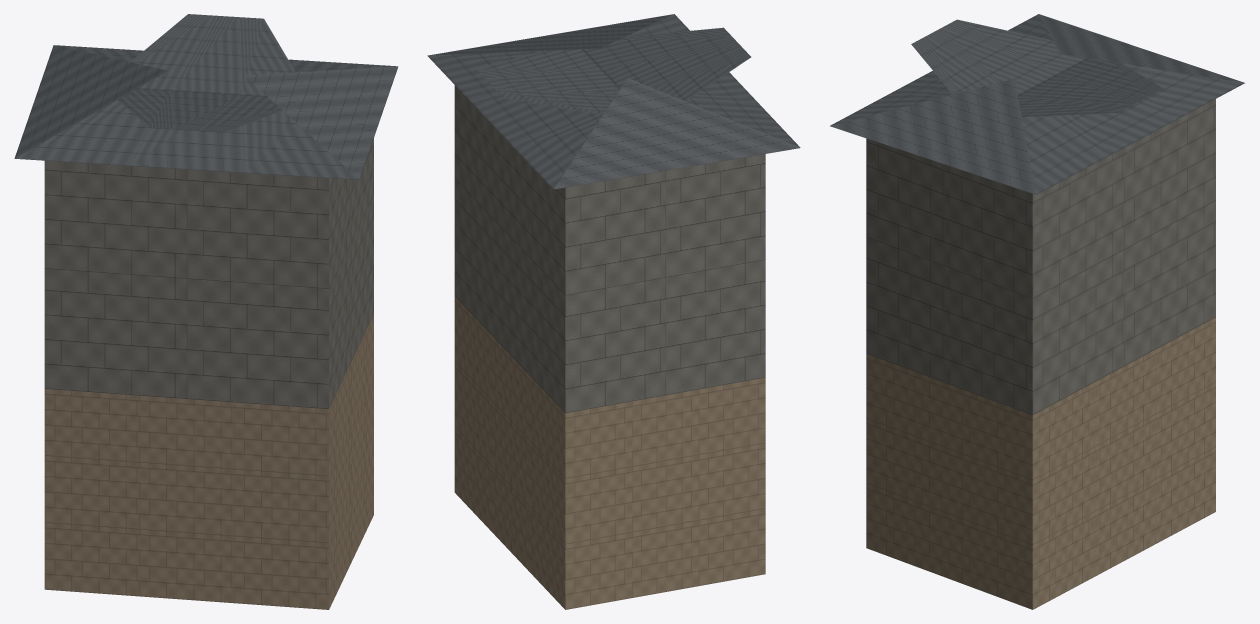
Rendered from bld_c15_25_394.gltf.
3 renders of one model, left to right at view 1: azimuth 30°, elevation 25°; view 2: azimuth 150°, elevation 25°; view 3: azimuth 270°, elevation 25°, orthographic. The views are drawn at different scales.
Visible parts, largest first — view 1: bld_c15_25_394; view 2: bld_c15_25_394; view 3: bld_c15_25_394.
Boxes of the visible parts, x1=… form: bld_c15_25_394: x1=14, y1=14, x2=398, y2=609; bld_c15_25_394: x1=427, y1=14, x2=800, y2=609; bld_c15_25_394: x1=830, y1=14, x2=1244, y2=609.
Bounding box in the file's own units: 10.17 × 12.2 × 9.88.
Materials: 3 (3 with a texture image).
